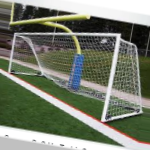goals: (8, 31, 143, 123)
